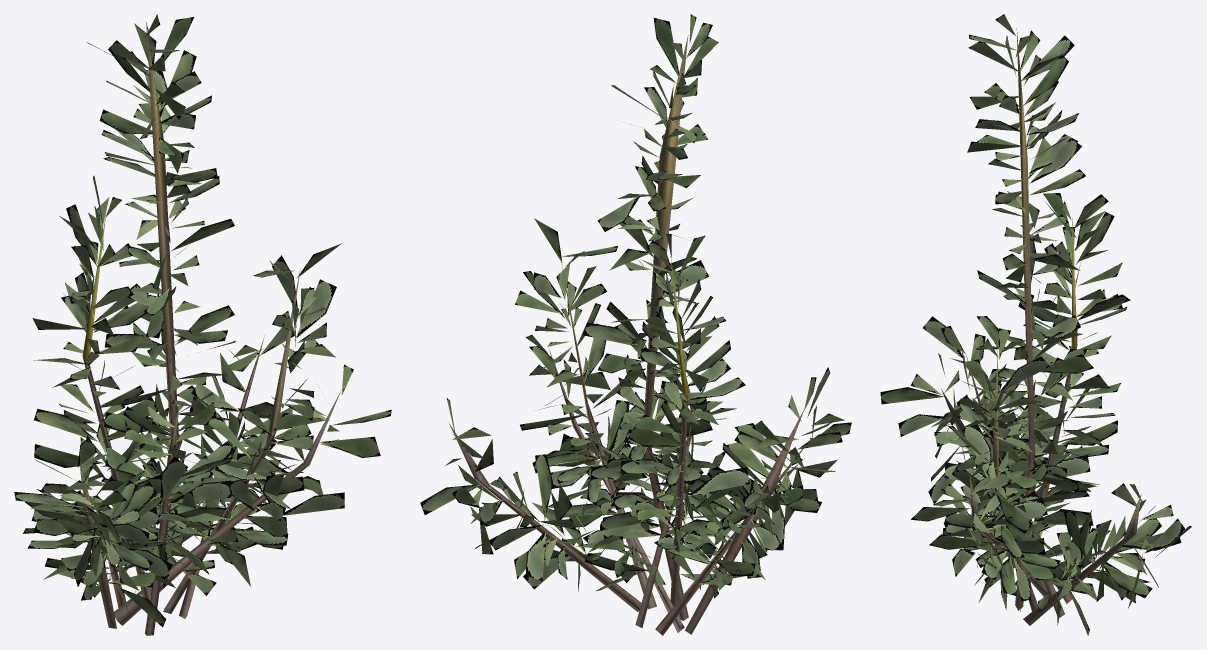
File: bush_e.glb
The picture shows the model from 3 angles, left to right: view 1: azimuth 30°, elevation 25°; view 2: azimuth 150°, elevation 25°; view 3: azimuth 270°, elevation 25°; orthographic projection. The views are drawn at different scales.
Visible parts, largest first — view 1: bush_e; view 2: bush_e; view 3: bush_e.
Part boxes in pixels (left/top/right/bottom): bush_e: left=14, top=14, right=391, bottom=635; bush_e: left=420, top=14, right=851, bottom=635; bush_e: left=880, top=14, right=1191, bottom=635.
Size of the model in its own units: 0.5829 by 1 by 0.4757.
2 materials, 2 textured.
